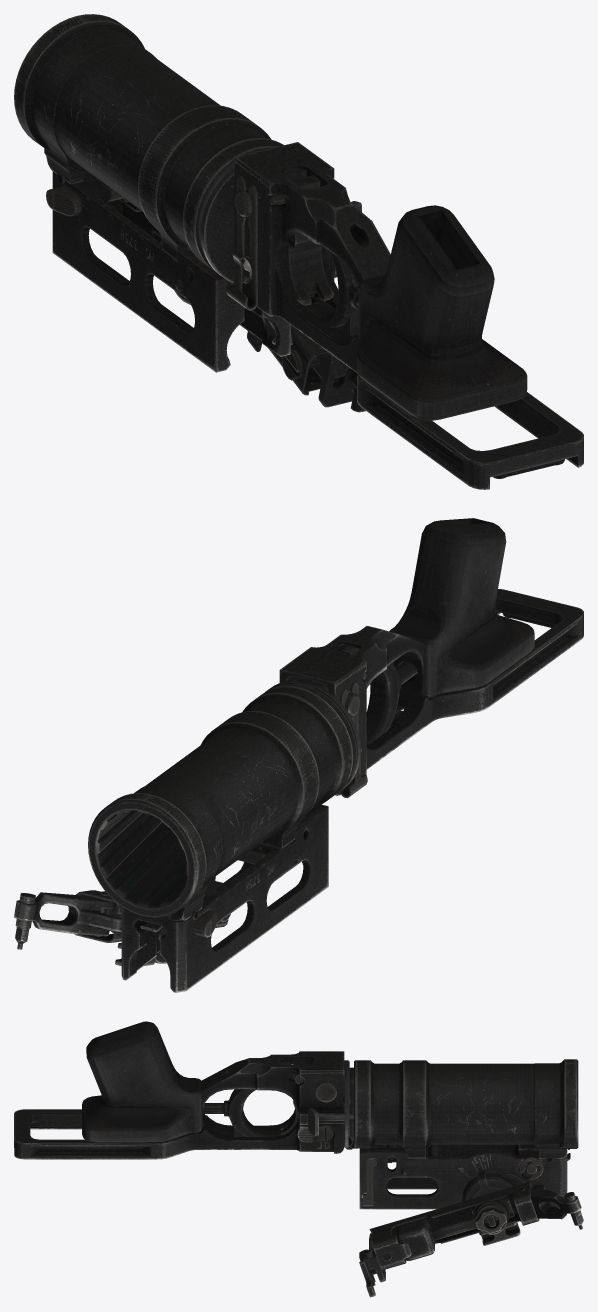
3 renders of one model, top to bottom at view 1: azimuth 30°, elevation 25°; view 2: azimuth 150°, elevation 25°; view 3: azimuth 270°, elevation 25°, orthographic. The views are drawn at different scales.
Parts seen in each view (by area): view 1: TW_62e7e7bbe6da9612f743f1e0_range300_PZ_Import; view 2: TW_62e7e7bbe6da9612f743f1e0_range300_PZ_Import; view 3: TW_62e7e7bbe6da9612f743f1e0_range300_PZ_Import.
Part boxes in pixels (left/top/right/bottom): TW_62e7e7bbe6da9612f743f1e0_range300_PZ_Import: left=14, top=14, right=583, bottom=489; TW_62e7e7bbe6da9612f743f1e0_range300_PZ_Import: left=14, top=518, right=583, bottom=992; TW_62e7e7bbe6da9612f743f1e0_range300_PZ_Import: left=14, top=1021, right=583, bottom=1297.
Bounding box in the file's own units: 0.0529 × 0.1868 × 0.0811.
Materials: 1 (1 with a texture image).
